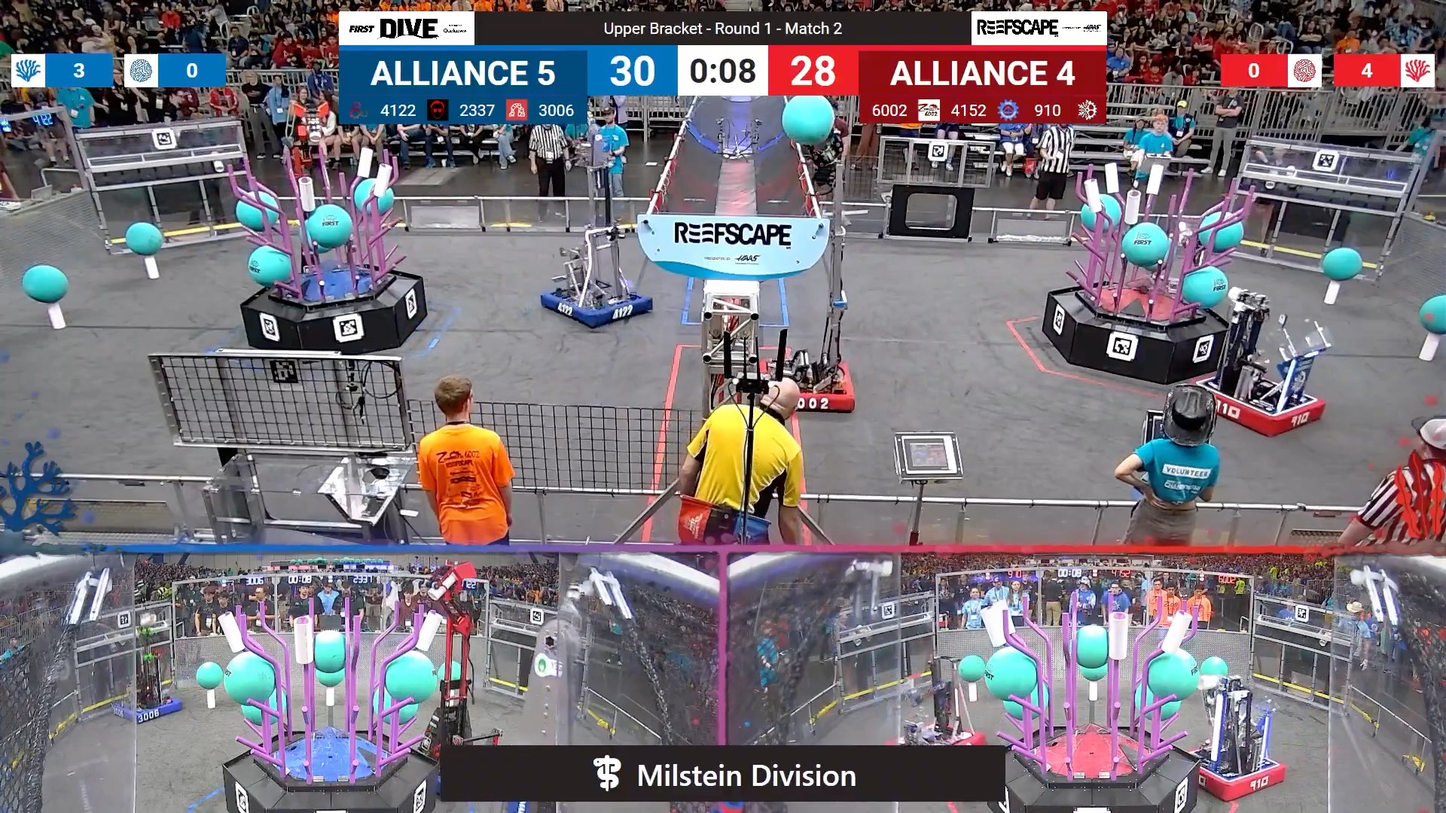bumpers: (1182, 374, 1334, 440), (533, 282, 657, 329), (770, 359, 861, 415), (1184, 752, 1292, 799), (108, 693, 188, 727), (892, 720, 989, 748)
